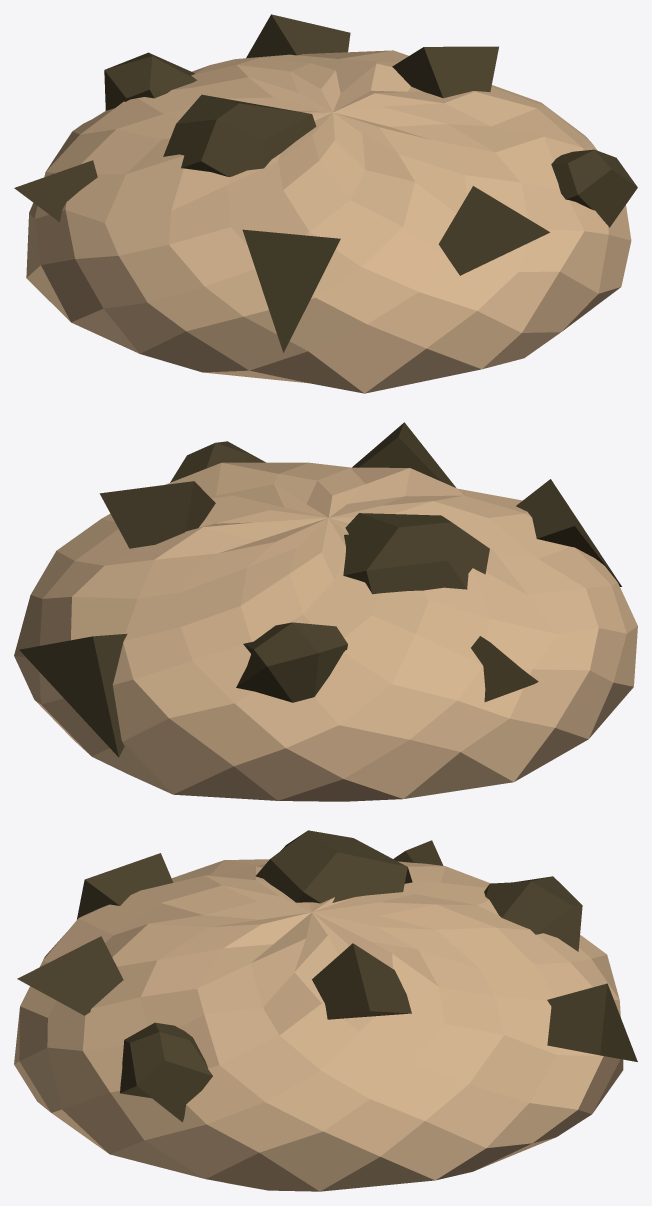
The model's file is Cookie.fbx.
3 views of the same model, one above another, from view 1: azimuth 30°, elevation 25°; view 2: azimuth 150°, elevation 25°; view 3: azimuth 270°, elevation 25° (orthographic). The views are drawn at different scales.
Visible parts, largest first — view 1: Cookie; view 2: Cookie; view 3: Cookie.
Boxes of the visible parts, x1,y1,x2,y2 form: Cookie: [14, 14, 637, 393]; Cookie: [14, 422, 637, 801]; Cookie: [14, 830, 637, 1191].
Bounding box in the file's own units: 179 × 68.44 × 184.
